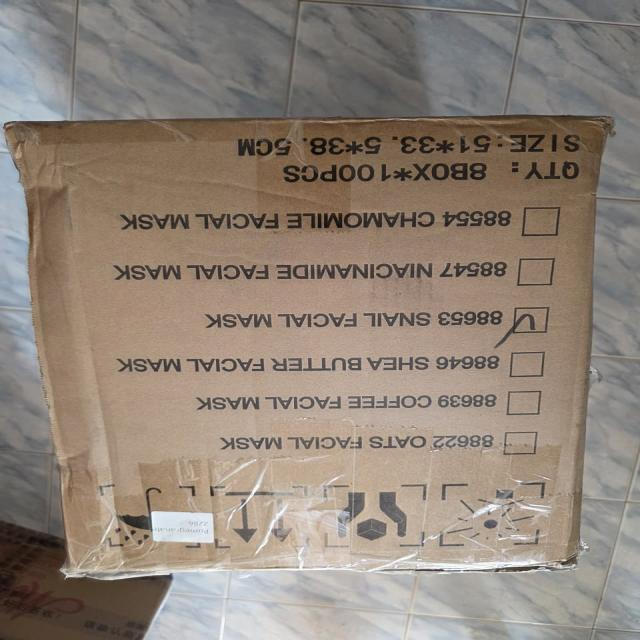carton_box: (0, 108, 639, 625)
handle_with_care_label: (323, 464, 428, 561)
keep_dry_label: (90, 475, 201, 556)
package_damage: (343, 550, 608, 584), (55, 551, 200, 593), (487, 100, 633, 141)
protect_from_heat_label: (434, 471, 550, 555)
this_side_up_label: (207, 480, 321, 575)
